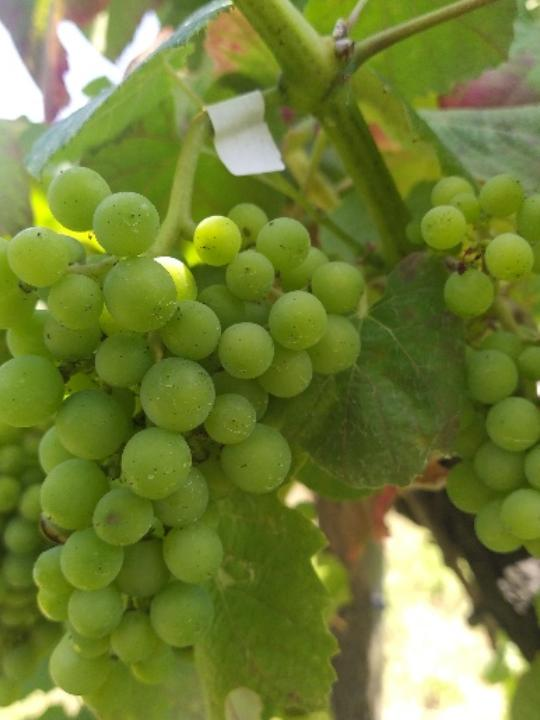grape: (0, 160, 369, 704)
